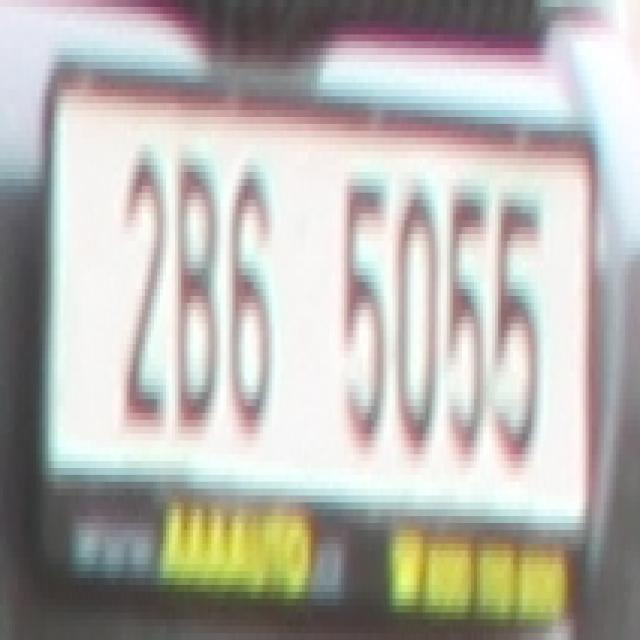0: (392, 165, 440, 468)
2: (120, 144, 166, 433)
5: (492, 179, 546, 475), (335, 158, 387, 454), (444, 172, 489, 461)
6: (223, 152, 278, 440)
B: (168, 138, 224, 434)
